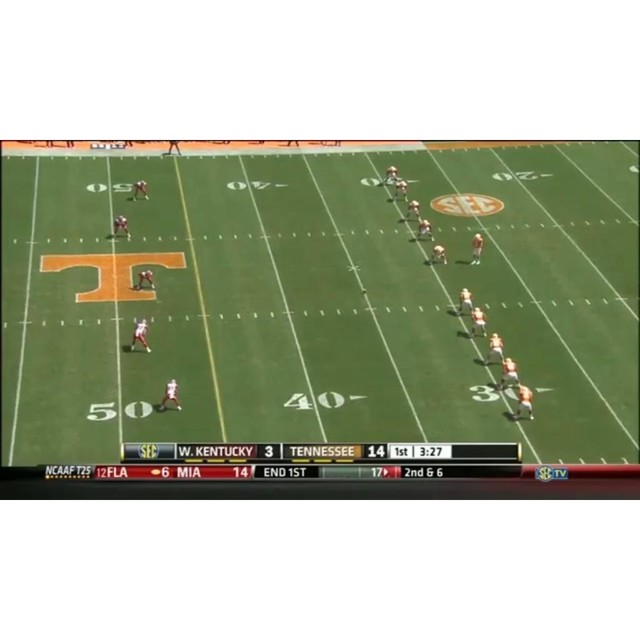american-football-player: (128, 316, 152, 354), (512, 384, 536, 421), (159, 378, 183, 412), (499, 358, 521, 390), (107, 215, 132, 241), (470, 306, 488, 338), (488, 332, 505, 364), (425, 244, 448, 267), (470, 232, 485, 266), (128, 180, 150, 202), (459, 286, 475, 315), (135, 269, 157, 290), (392, 179, 410, 203), (401, 200, 421, 221), (418, 218, 435, 242)
